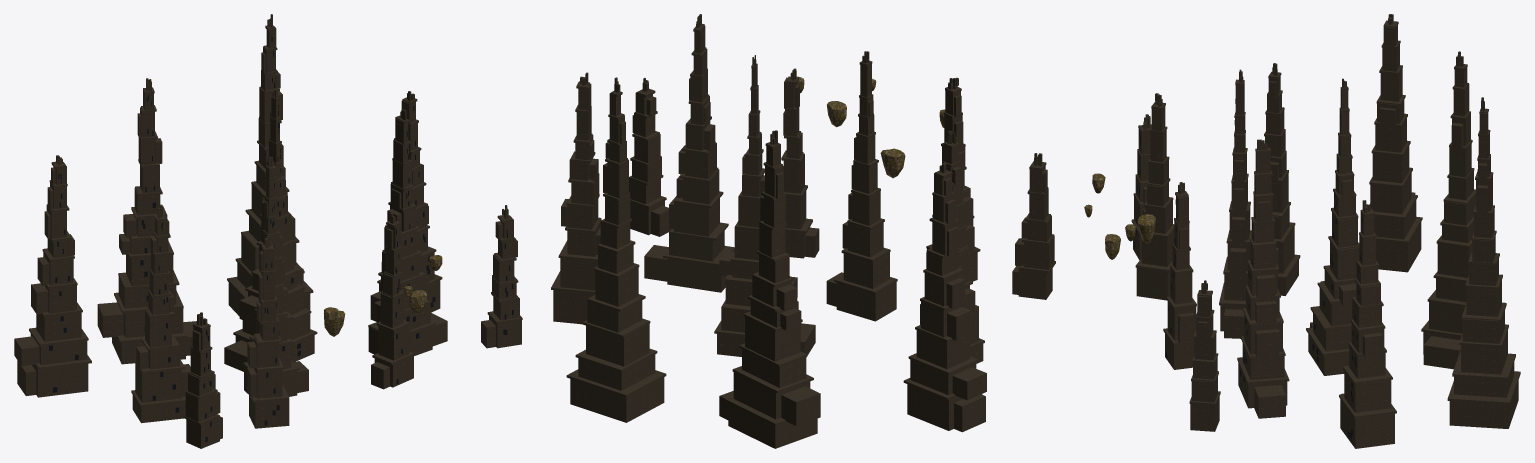
The model's file is towers.glb.
3 renders of one model, left to right at view 1: azimuth 30°, elevation 25°; view 2: azimuth 150°, elevation 25°; view 3: azimuth 270°, elevation 25°, orthographic. The views are drawn at different scales.
Parts seen in each view (by area): view 1: Towers; view 2: Towers; view 3: Towers.
Boxes of the visible parts, <box> form: Towers: <box>14,14,522,448</box>; Towers: <box>551,14,1055,448</box>; Towers: <box>1084,14,1520,448</box>.
Size of the model in its own units: 217 by 150 by 188.
3 materials, 2 textured.
